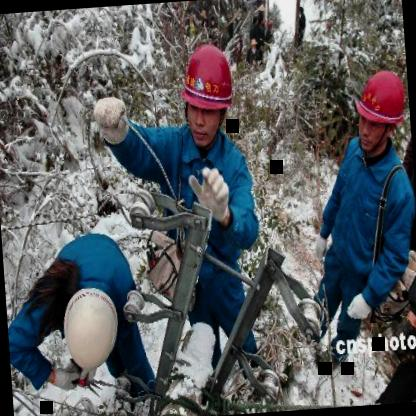helmet: (175, 34, 245, 152), (54, 276, 126, 375), (352, 59, 412, 156)
